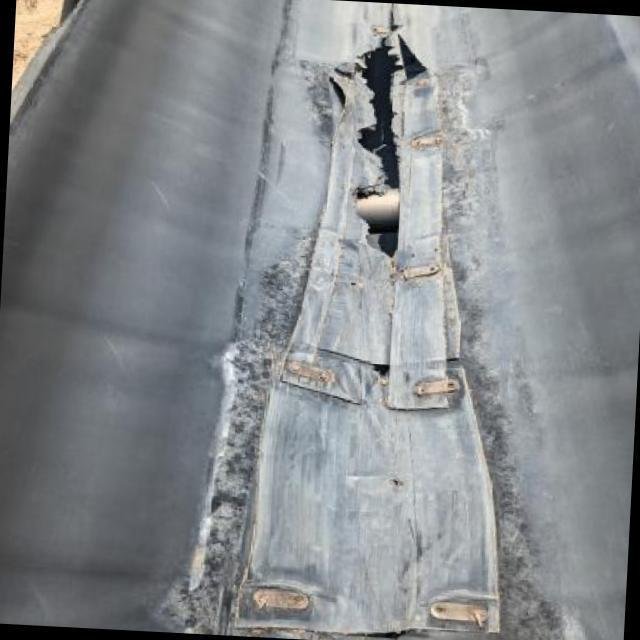Hole: (322, 0, 433, 260)
